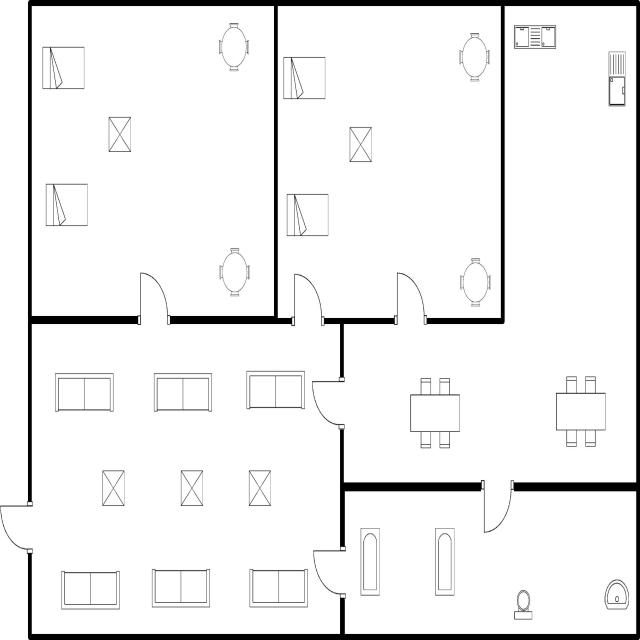bed: (41, 178, 90, 232), (284, 187, 330, 243), (280, 52, 328, 104), (40, 43, 86, 92)
coffee_table: (346, 121, 376, 169), (100, 464, 128, 514), (105, 110, 134, 156), (177, 466, 205, 512), (246, 465, 272, 511)
dining_table: (551, 370, 610, 454), (406, 370, 464, 454)
large_sink: (511, 585, 535, 626)
large_sofa: (148, 562, 214, 616), (243, 364, 307, 416), (59, 566, 124, 616), (52, 368, 116, 418), (246, 564, 310, 614), (149, 368, 215, 416)
round_table: (216, 243, 254, 303), (215, 16, 251, 78), (454, 28, 492, 86), (457, 251, 493, 311)
sink: (606, 45, 630, 113)
small_sink: (600, 576, 632, 614)
tub: (432, 522, 458, 604), (357, 524, 383, 604)
twin_sink: (509, 20, 560, 56)
